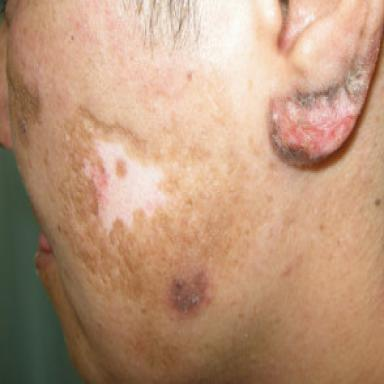Lupus-Erythematosus-Chronicus-Discoides: (85, 141, 165, 231), (271, 86, 359, 157)
